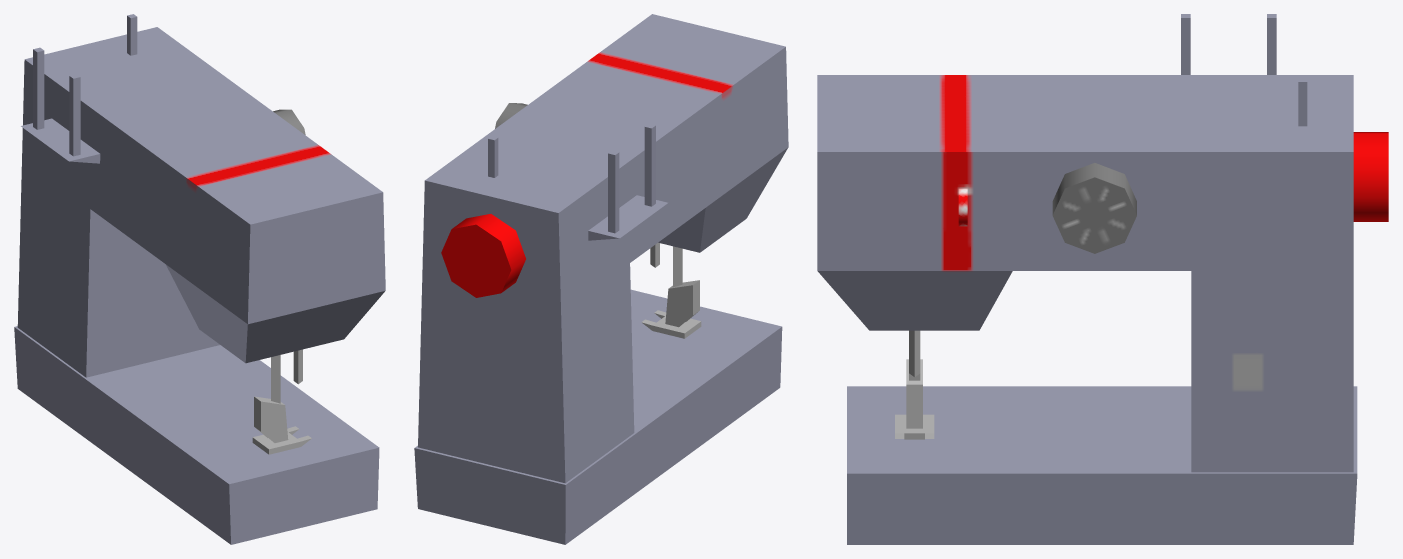
Rendered from First Level Machine.fbx.
3 renders of one model, left to right at view 1: azimuth 30°, elevation 25°; view 2: azimuth 150°, elevation 25°; view 3: azimuth 270°, elevation 25°, orthographic. The views are drawn at different scales.
Parts seen in each view (by area): view 1: Base_low, WireKeeper_low, SewKeeper_low; view 2: Base_low, SideCylinder_low, WireKeeper_low, SewKeeper_low; view 3: Base_low, FrontCylinder_low, SideCylinder_low, SewKeeper_low, WireKeeper_low.
Part boxes in pixels (x1,y1,x2,y2): Base_low: (14,27,385,544); WireKeeper_low: (21,47,100,163); SewKeeper_low: (252,355,311,454); Base_low: (414,14,788,544); SideCylinder_low: (441,214,525,297); WireKeeper_low: (588,124,667,240); SewKeeper_low: (641,246,701,338); Base_low: (817,75,1357,544); FrontCylinder_low: (1052,163,1136,253); SideCylinder_low: (1353,132,1388,221); SewKeeper_low: (895,359,934,439); WireKeeper_low: (1181,14,1276,74).
Size of the model in its own units: 220 by 405 by 481.
